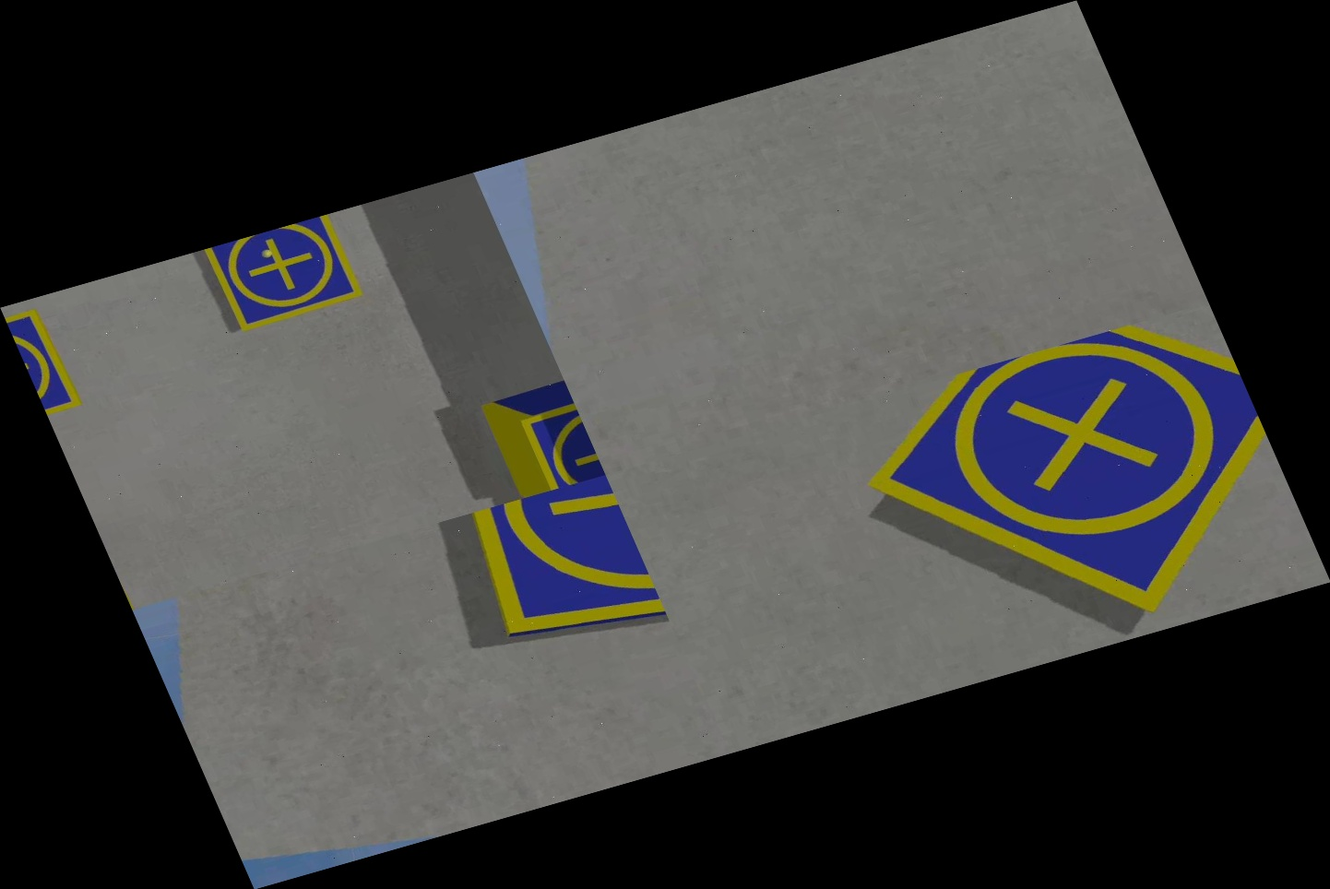small_base: (833, 302, 1322, 670), (457, 474, 677, 681), (204, 214, 364, 334), (3, 303, 84, 417), (517, 398, 606, 491)
